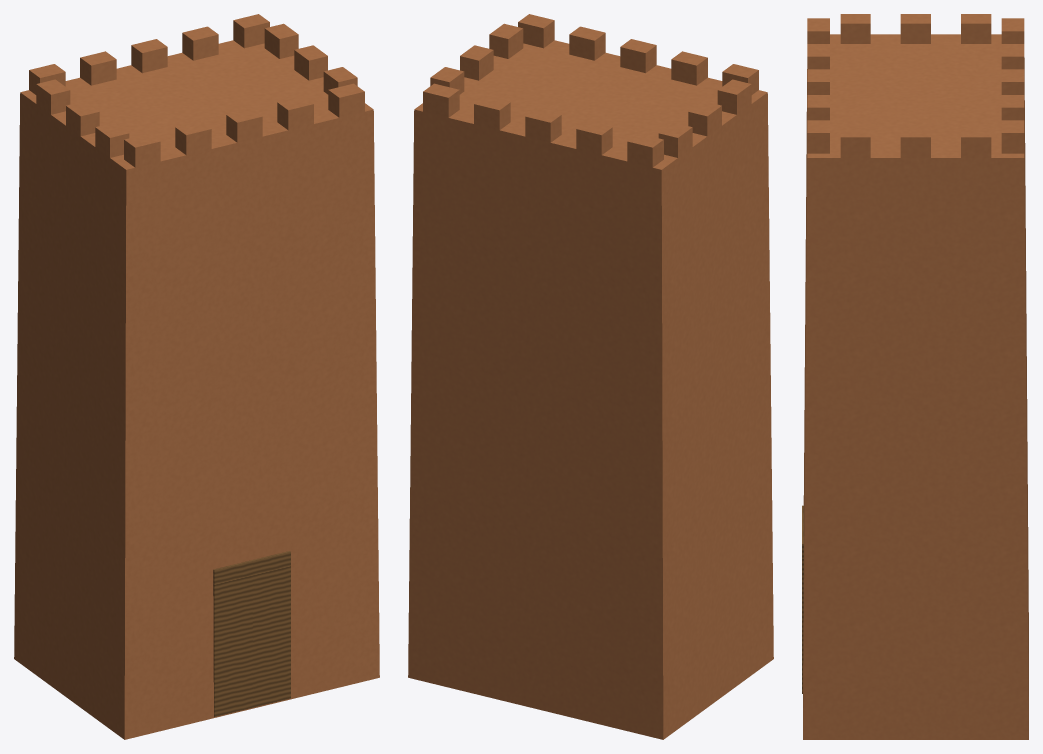
Rendered from SM_Souq_Warehouse_W4D30_Crenel.fbx.
3 views of the same model, side by side, from view 1: azimuth 30°, elevation 25°; view 2: azimuth 150°, elevation 25°; view 3: azimuth 270°, elevation 25° (orthographic). The views are drawn at different scales.
Visible parts, largest first — view 1: SM_Souq_Warehouse_W4D30_Crenel; view 2: SM_Souq_Warehouse_W4D30_Crenel; view 3: SM_Souq_Warehouse_W4D30_Crenel.
Boxes of the visible parts, box(x1,y1,x2,y2) form: SM_Souq_Warehouse_W4D30_Crenel: box(14, 14, 379, 739); SM_Souq_Warehouse_W4D30_Crenel: box(408, 14, 773, 739); SM_Souq_Warehouse_W4D30_Crenel: box(802, 14, 1028, 739).
Bounding box in the file's own units: 400 × 880 × 301.
2 materials, 2 textured.
